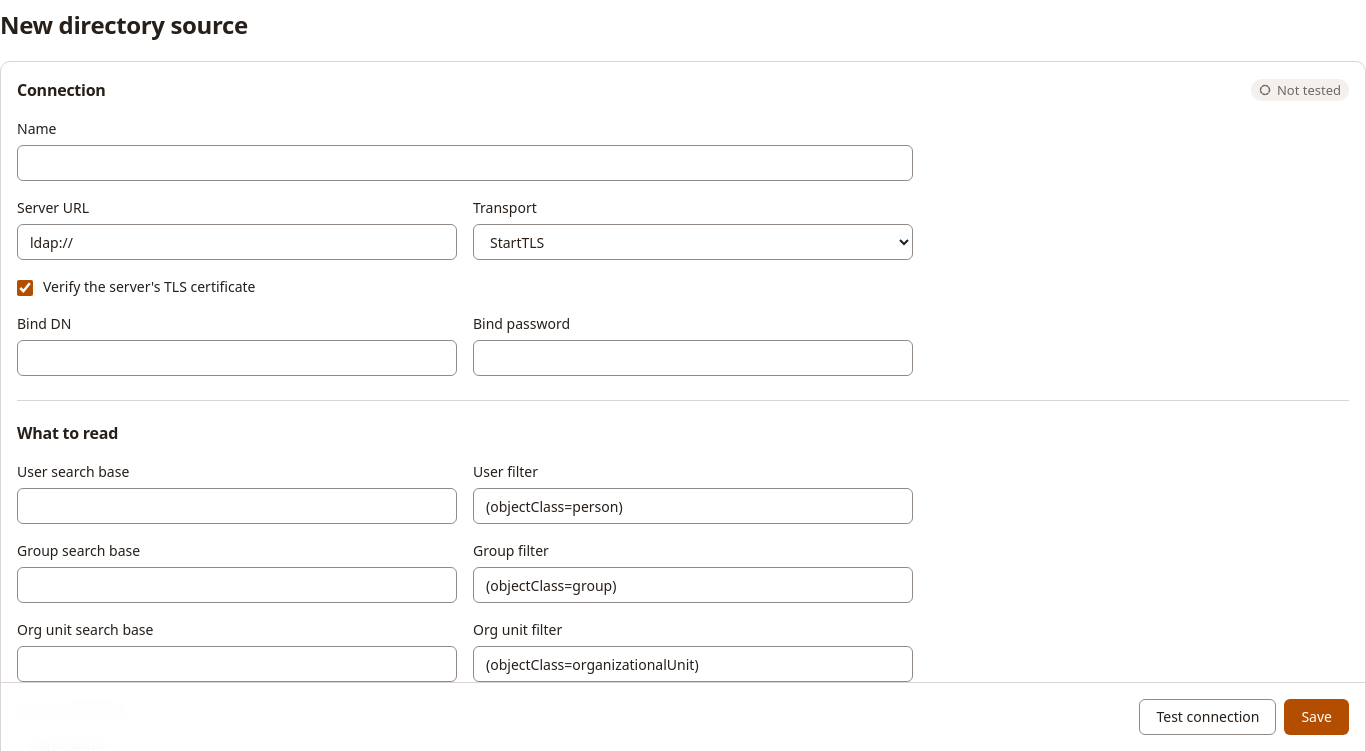
testing the connection › reports the counts and what the directory returned, before anything is saved
Click the button "Test connection": [1208, 717] box [1139,699,1276,735]
(page scrolled)
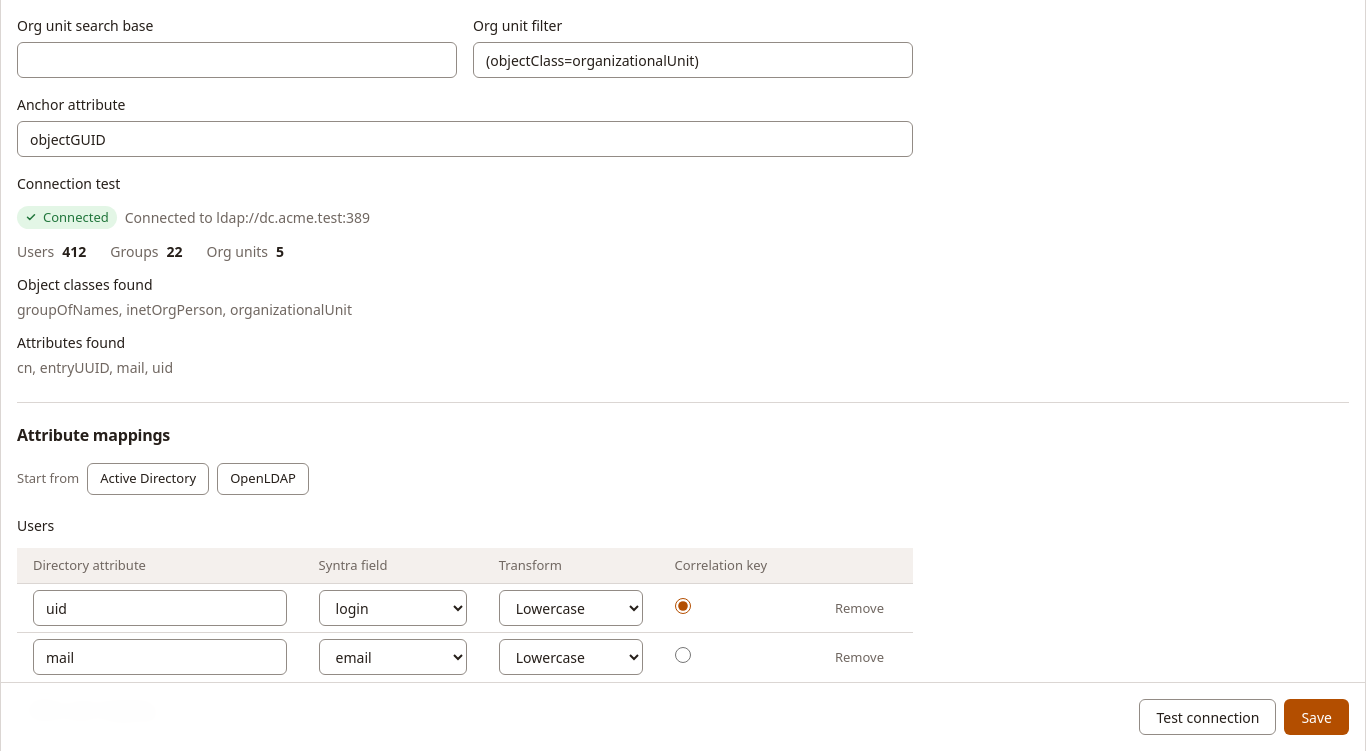
Check: the text "412" is shown, box [62,241,86,262]
Check: the text "groupOfNames, inetOrgPerson, organizationalUnit" is shown, box [17,300,352,319]
Check: the text "cn, entryUUID, mail, uid" is shown, box [17,358,173,377]
